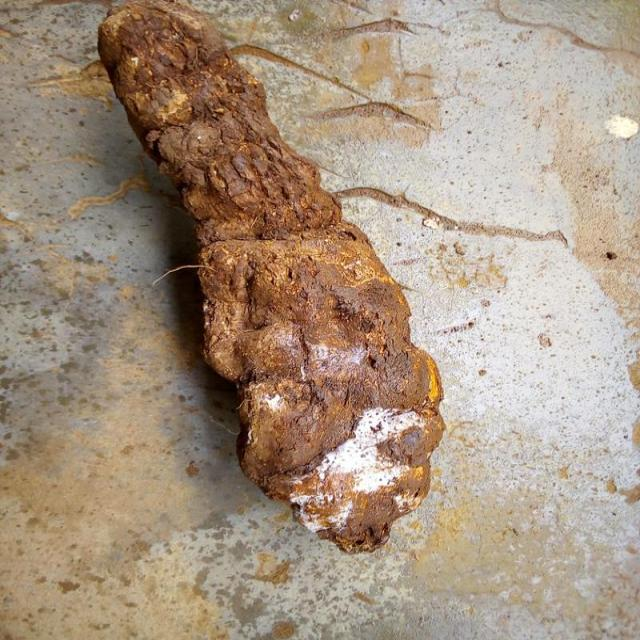cassava leaf: (95, 0, 448, 555)
